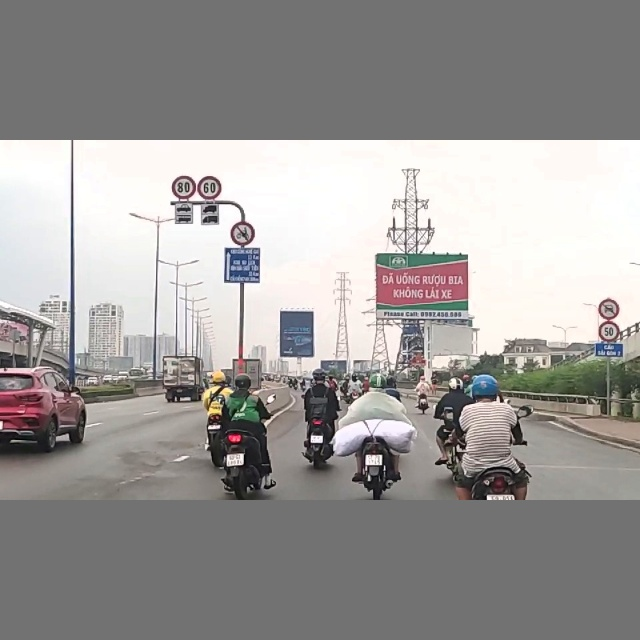P.103a: (599, 299, 619, 319)
P.104: (232, 221, 255, 245)
P.127*50: (597, 321, 618, 341)
P.127*60: (201, 178, 222, 200)
P.127*80: (173, 176, 196, 199)
